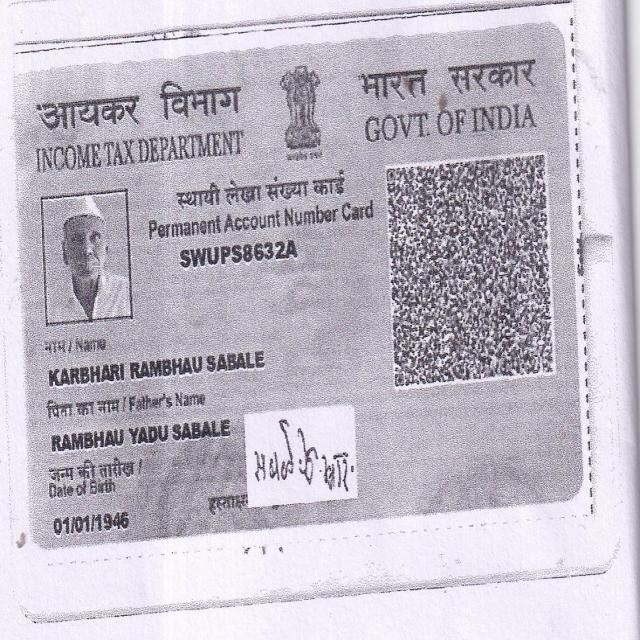pan_card: (11, 18, 587, 555)
